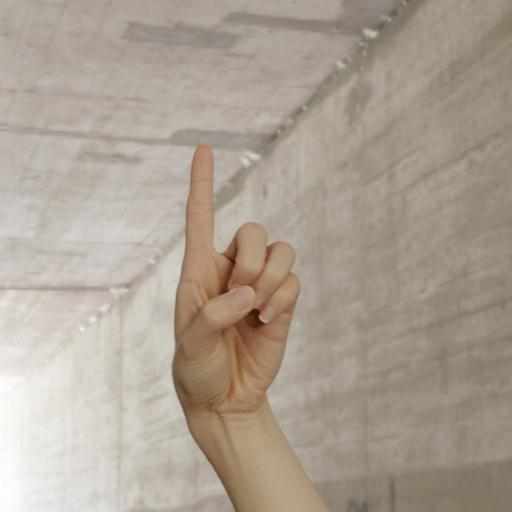D: (164, 136, 302, 422)
